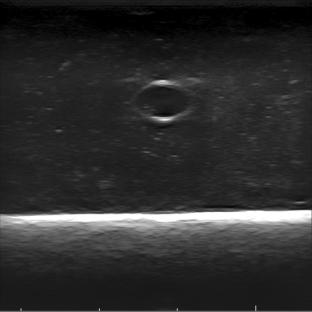vessel: (133, 79, 194, 123)
